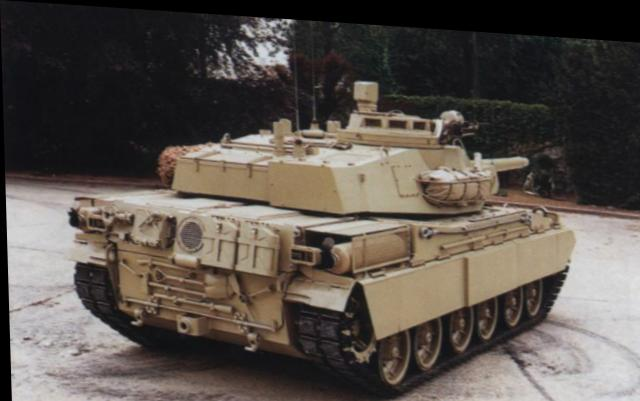tank: (65, 112, 550, 370)
